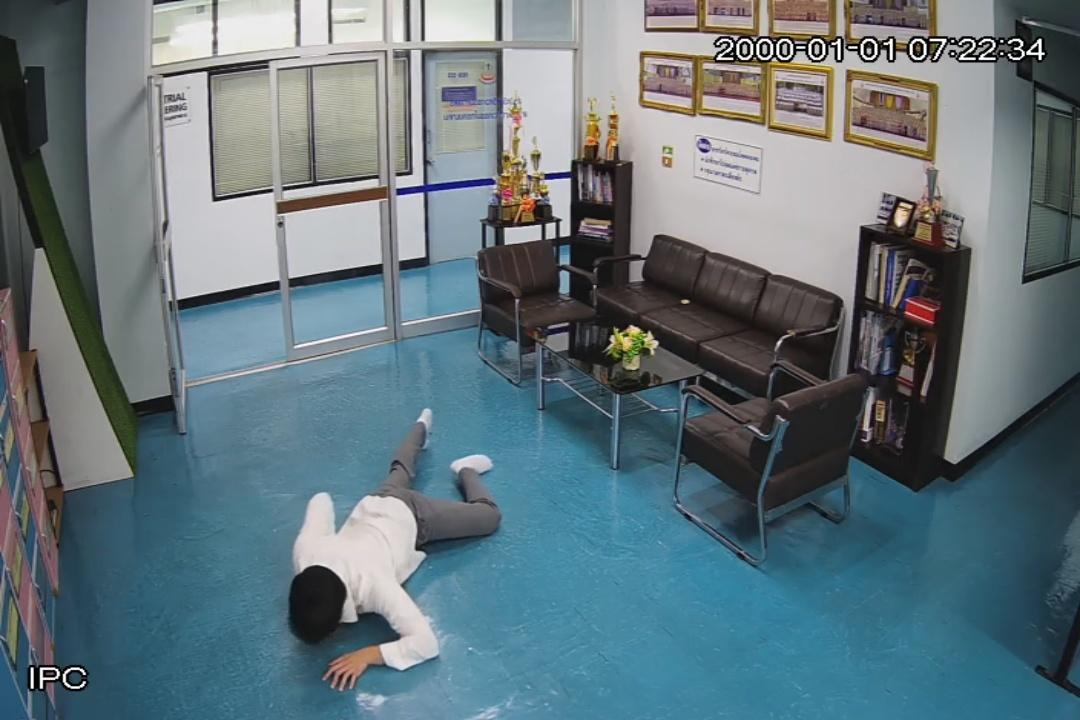fall: (278, 402, 506, 694)
